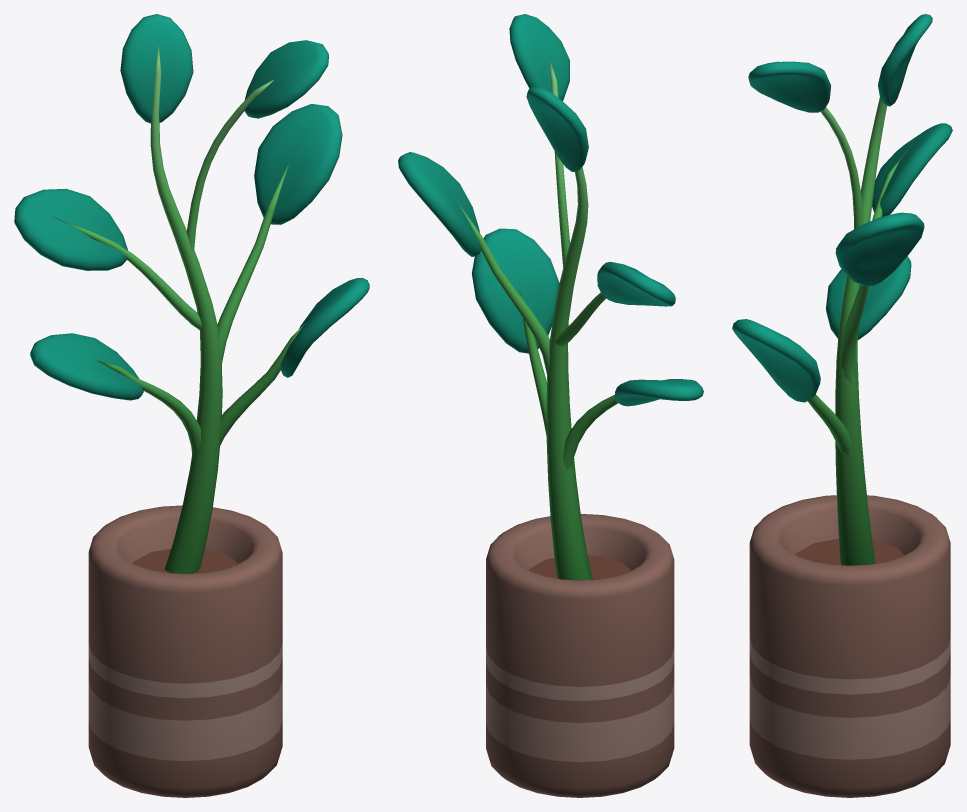
The model's file is Plants_15.glb.
3 renders of one model, left to right at view 1: azimuth 30°, elevation 25°; view 2: azimuth 150°, elevation 25°; view 3: azimuth 270°, elevation 25°, orthographic. The views are drawn at different scales.
Parts seen in each view (by area): view 1: Plants_15; view 2: Plants_15; view 3: Plants_15.
Part boxes in pixels (<box>): Plants_15: <box>14,14,369,797</box>; Plants_15: <box>398,14,703,797</box>; Plants_15: <box>732,14,952,797</box>.
Size of the model in its own units: 0.5145 by 1.16 by 0.3109.
Materials: 1 (1 with a texture image).
